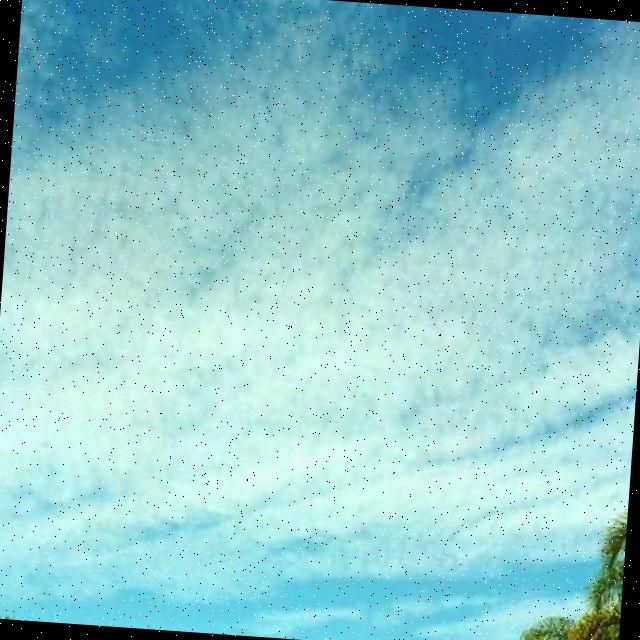Cc: (1, 1, 640, 408)
